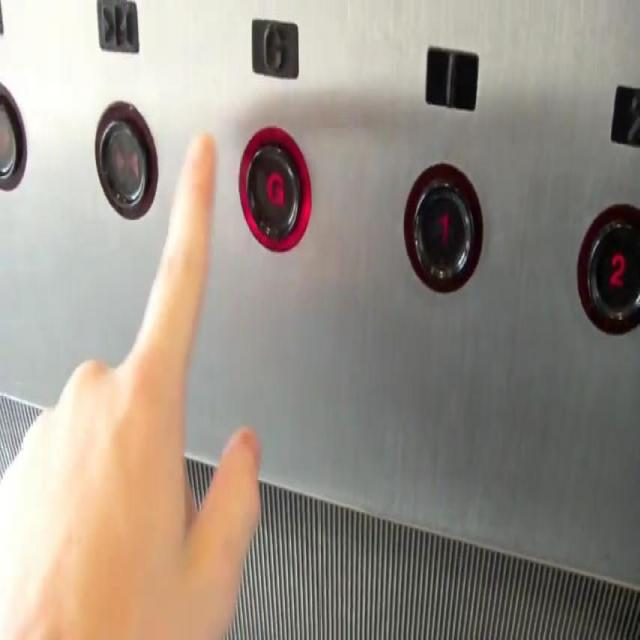1: (402, 159, 482, 296), (425, 44, 479, 111)
2: (576, 199, 639, 337)
G: (237, 123, 312, 255), (250, 16, 300, 81)
close: (94, 98, 158, 218), (94, 0, 140, 55)
